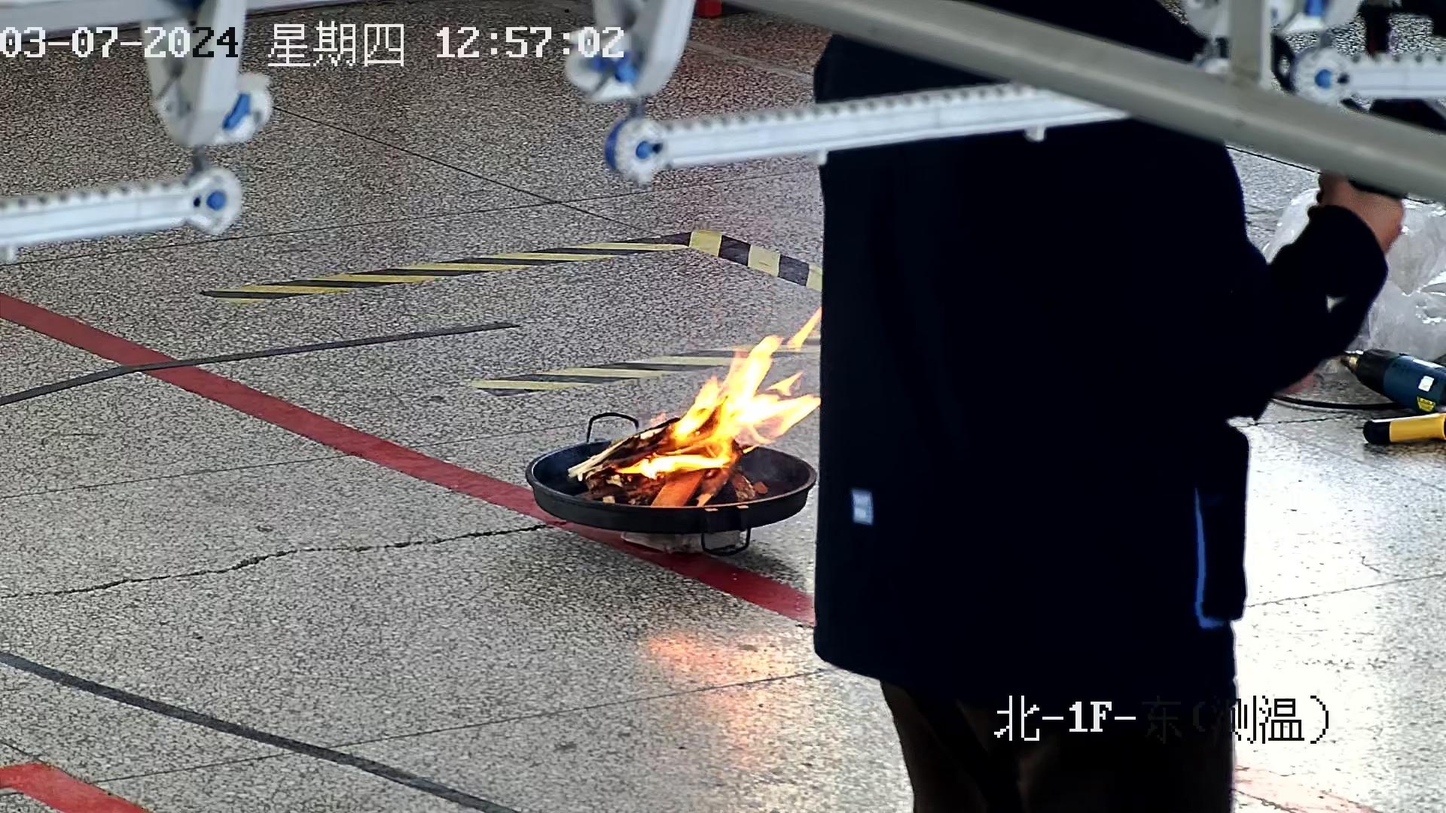fire: (570, 312, 819, 507)
